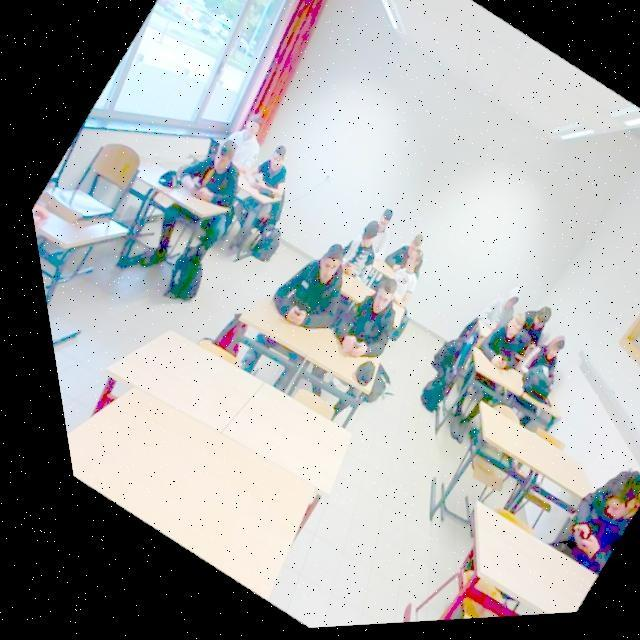phone_use: (552, 470, 638, 571), (273, 243, 342, 326), (334, 275, 395, 354), (176, 139, 236, 206), (233, 127, 284, 203), (487, 306, 549, 366), (343, 208, 391, 272), (378, 233, 421, 296), (522, 335, 563, 400), (481, 313, 529, 366), (342, 220, 379, 286), (477, 295, 517, 336)
